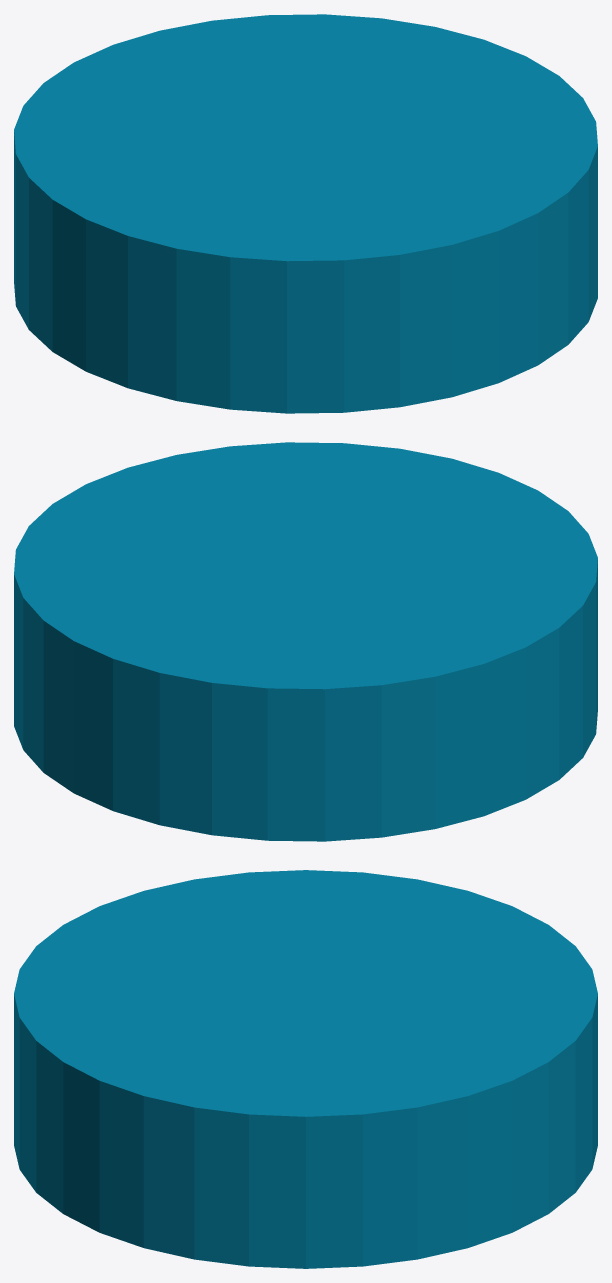
The model's file is CannonZemin.fbx.
The picture shows the model from 3 angles, top to bottom: view 1: azimuth 30°, elevation 25°; view 2: azimuth 150°, elevation 25°; view 3: azimuth 270°, elevation 25°; orthographic projection.
Visible parts, largest first — view 1: cannonZemin; view 2: cannonZemin; view 3: cannonZemin.
Part boxes in pixels (bbox=[...]): cannonZemin: bbox=[14, 14, 597, 413]; cannonZemin: bbox=[14, 442, 597, 841]; cannonZemin: bbox=[14, 870, 597, 1268].
Size of the model in its own units: 143 by 41.23 by 143.
